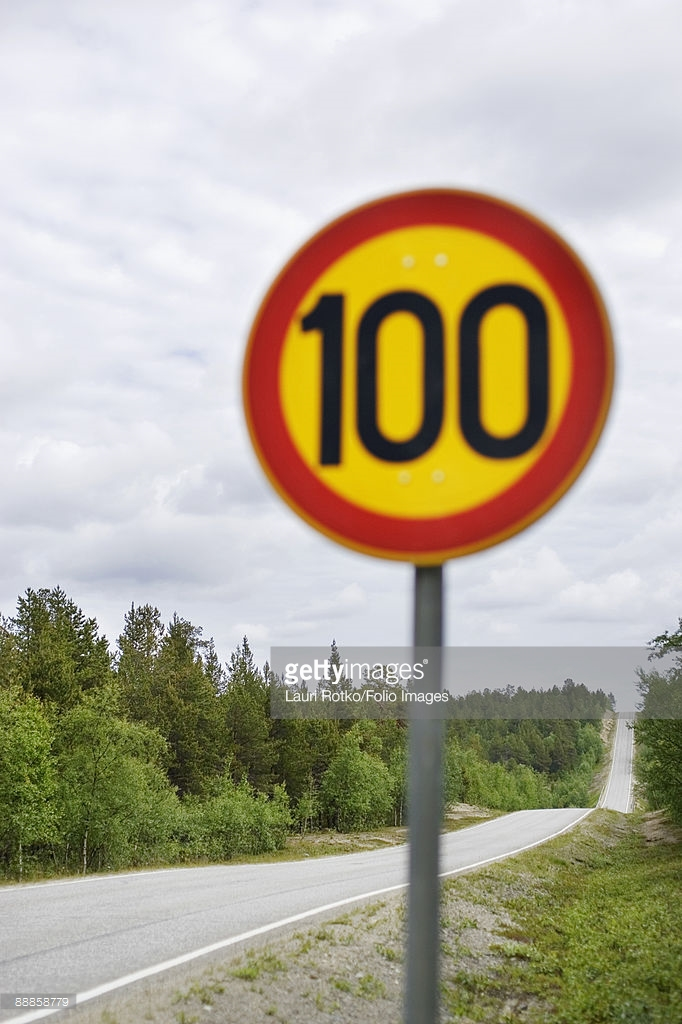Speed_limit_100km: (240, 185, 618, 568)
